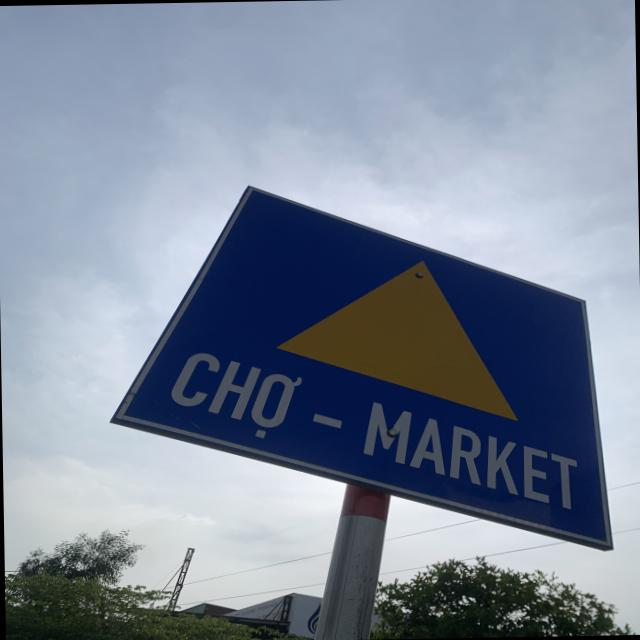Cho_Quay_Xe: (102, 176, 610, 560)
